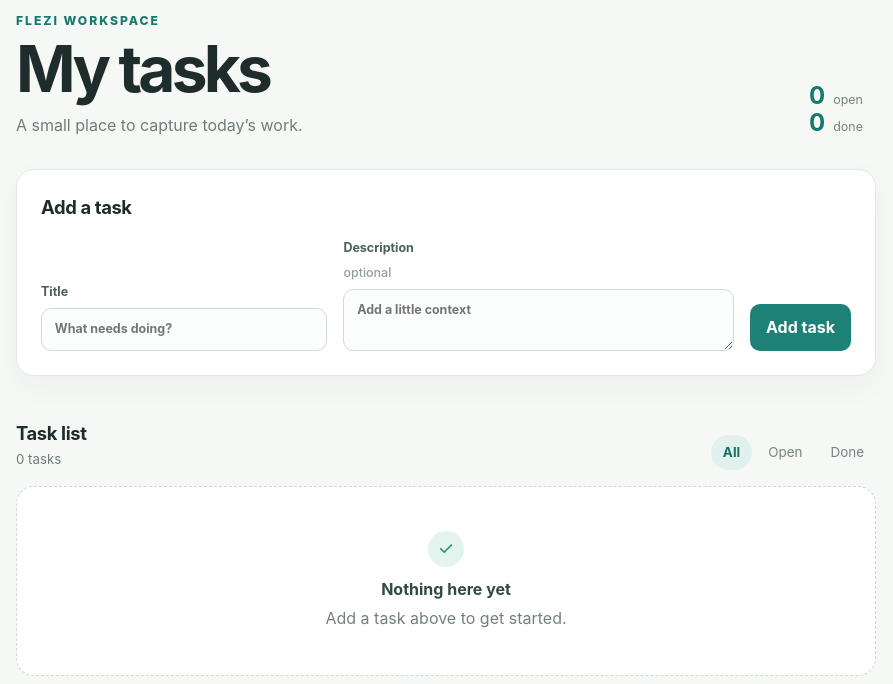
it: task manager › renders an empty state and creates a task
Expected: the text "Nothing here yet" is shown, top-left (381, 577), bottom-right (511, 601)
In the field labelled "Title": (184, 329) top-left (41, 308), bottom-right (327, 351), type "Buy milk"
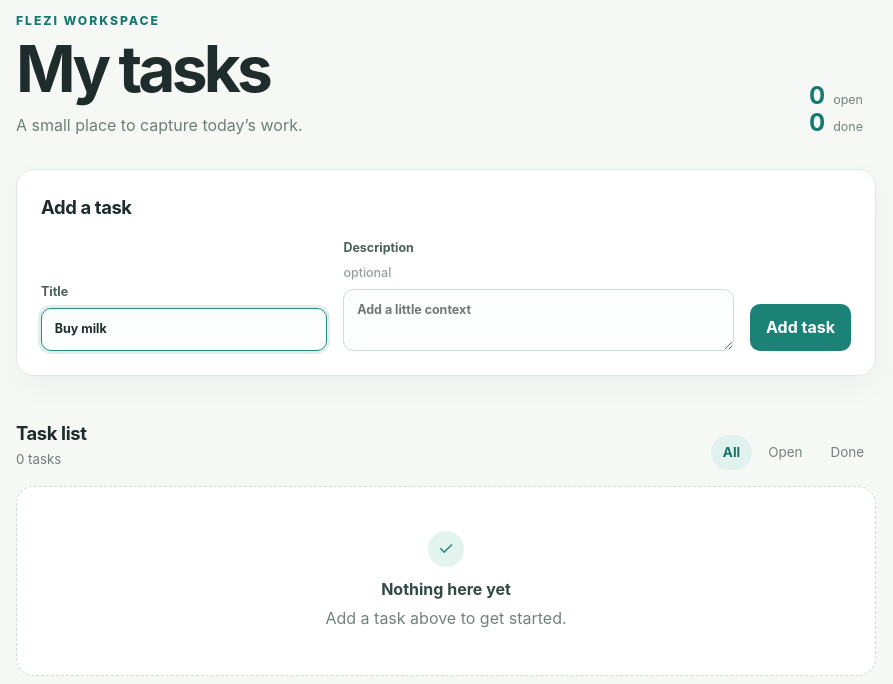
Click the button "Add task": (800, 327) top-left (750, 304), bottom-right (851, 351)
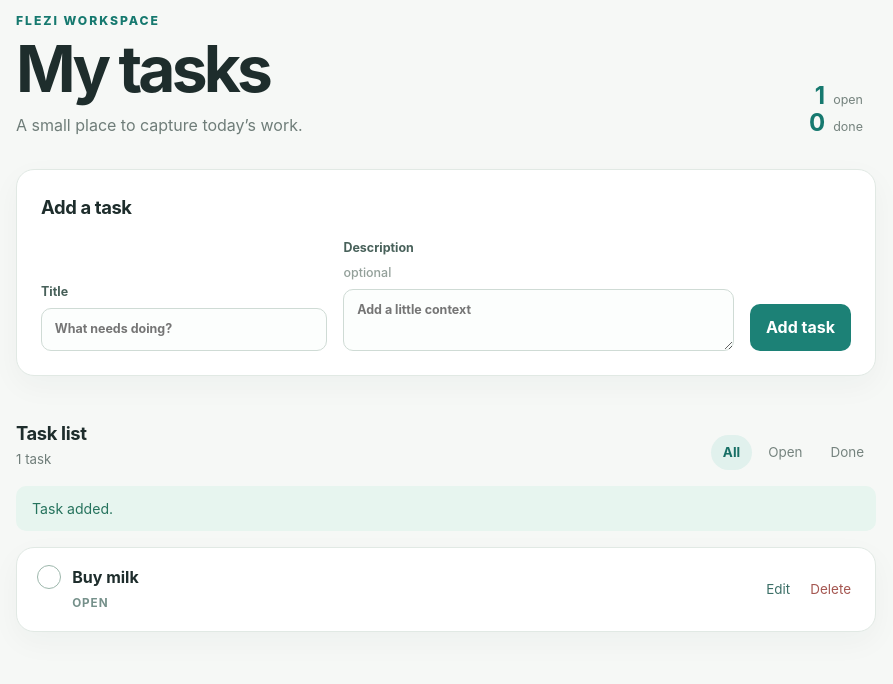
Now the heading "Buy milk" is shown, box top-left (72, 567), bottom-right (139, 588)
Now the message reads "Task added.", box top-left (32, 500), bottom-right (113, 517)
